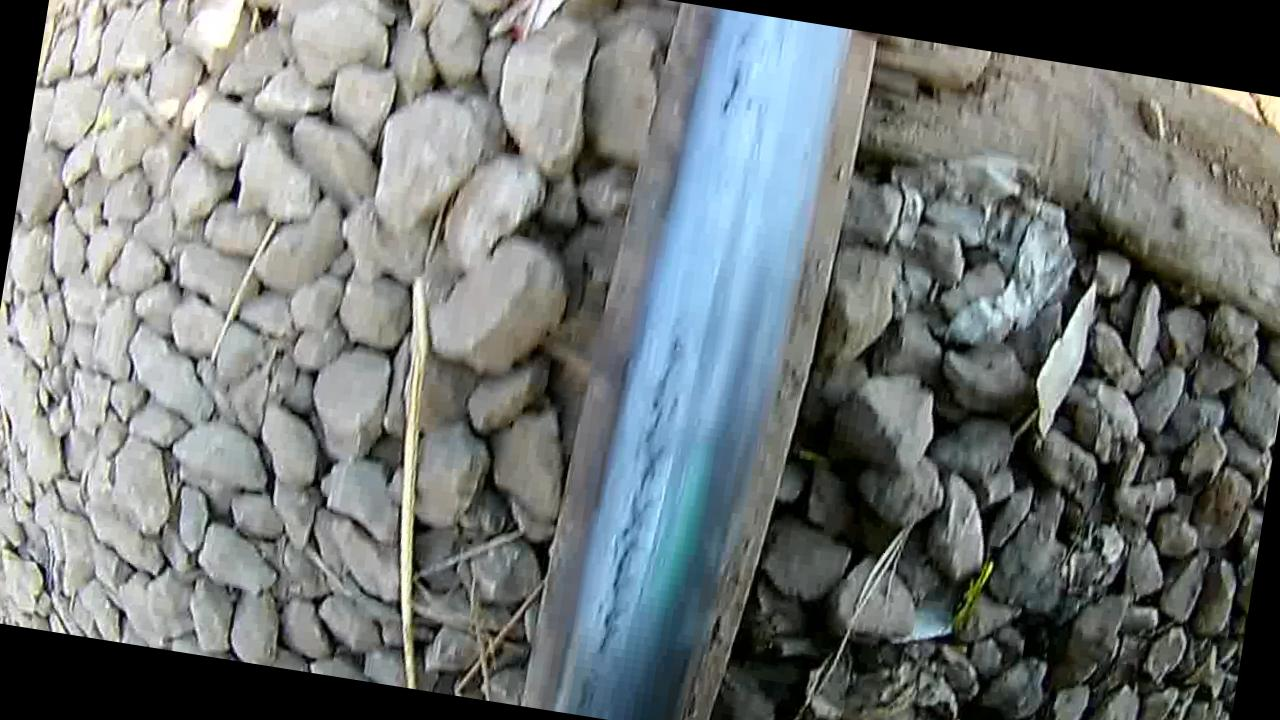normal_track: (592, 34, 791, 669)
